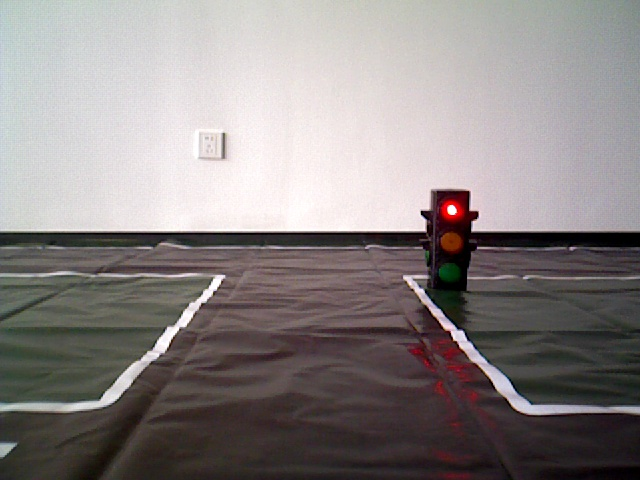red: (431, 193, 469, 289)
